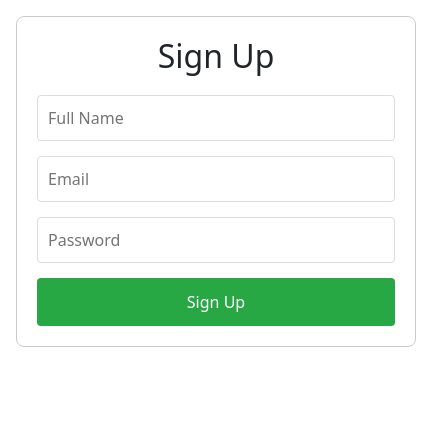
it: Signup Component › shows fallback error message when response message is not provided
Type "Test User" into the field with placeholder "Full Name".
click(216, 118); type("Test User")  # box [37, 95, 395, 141]
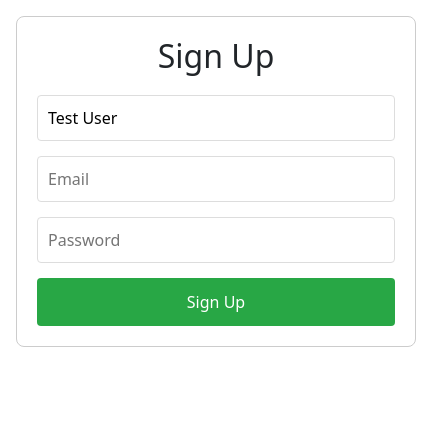
Type "test@example.com" into the field with placeholder "Email".
click(216, 179); type("test@example.com")  # box [37, 156, 395, 202]
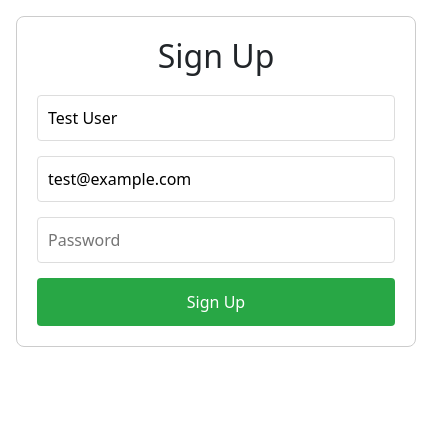
Type "secret" into the password field with placeholder "Password".
click(216, 240); type("secret")  # box [37, 217, 395, 263]
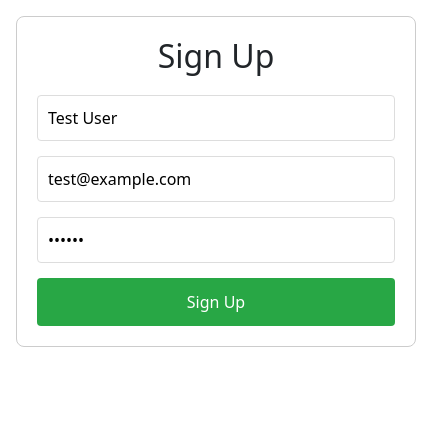
Click the button "Sign Up".
click(216, 302)  # box [37, 278, 395, 326]
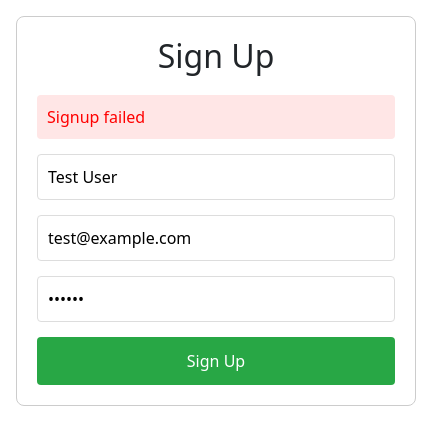
Result: the text "Signup failed" is shown at [37, 95, 395, 139]
